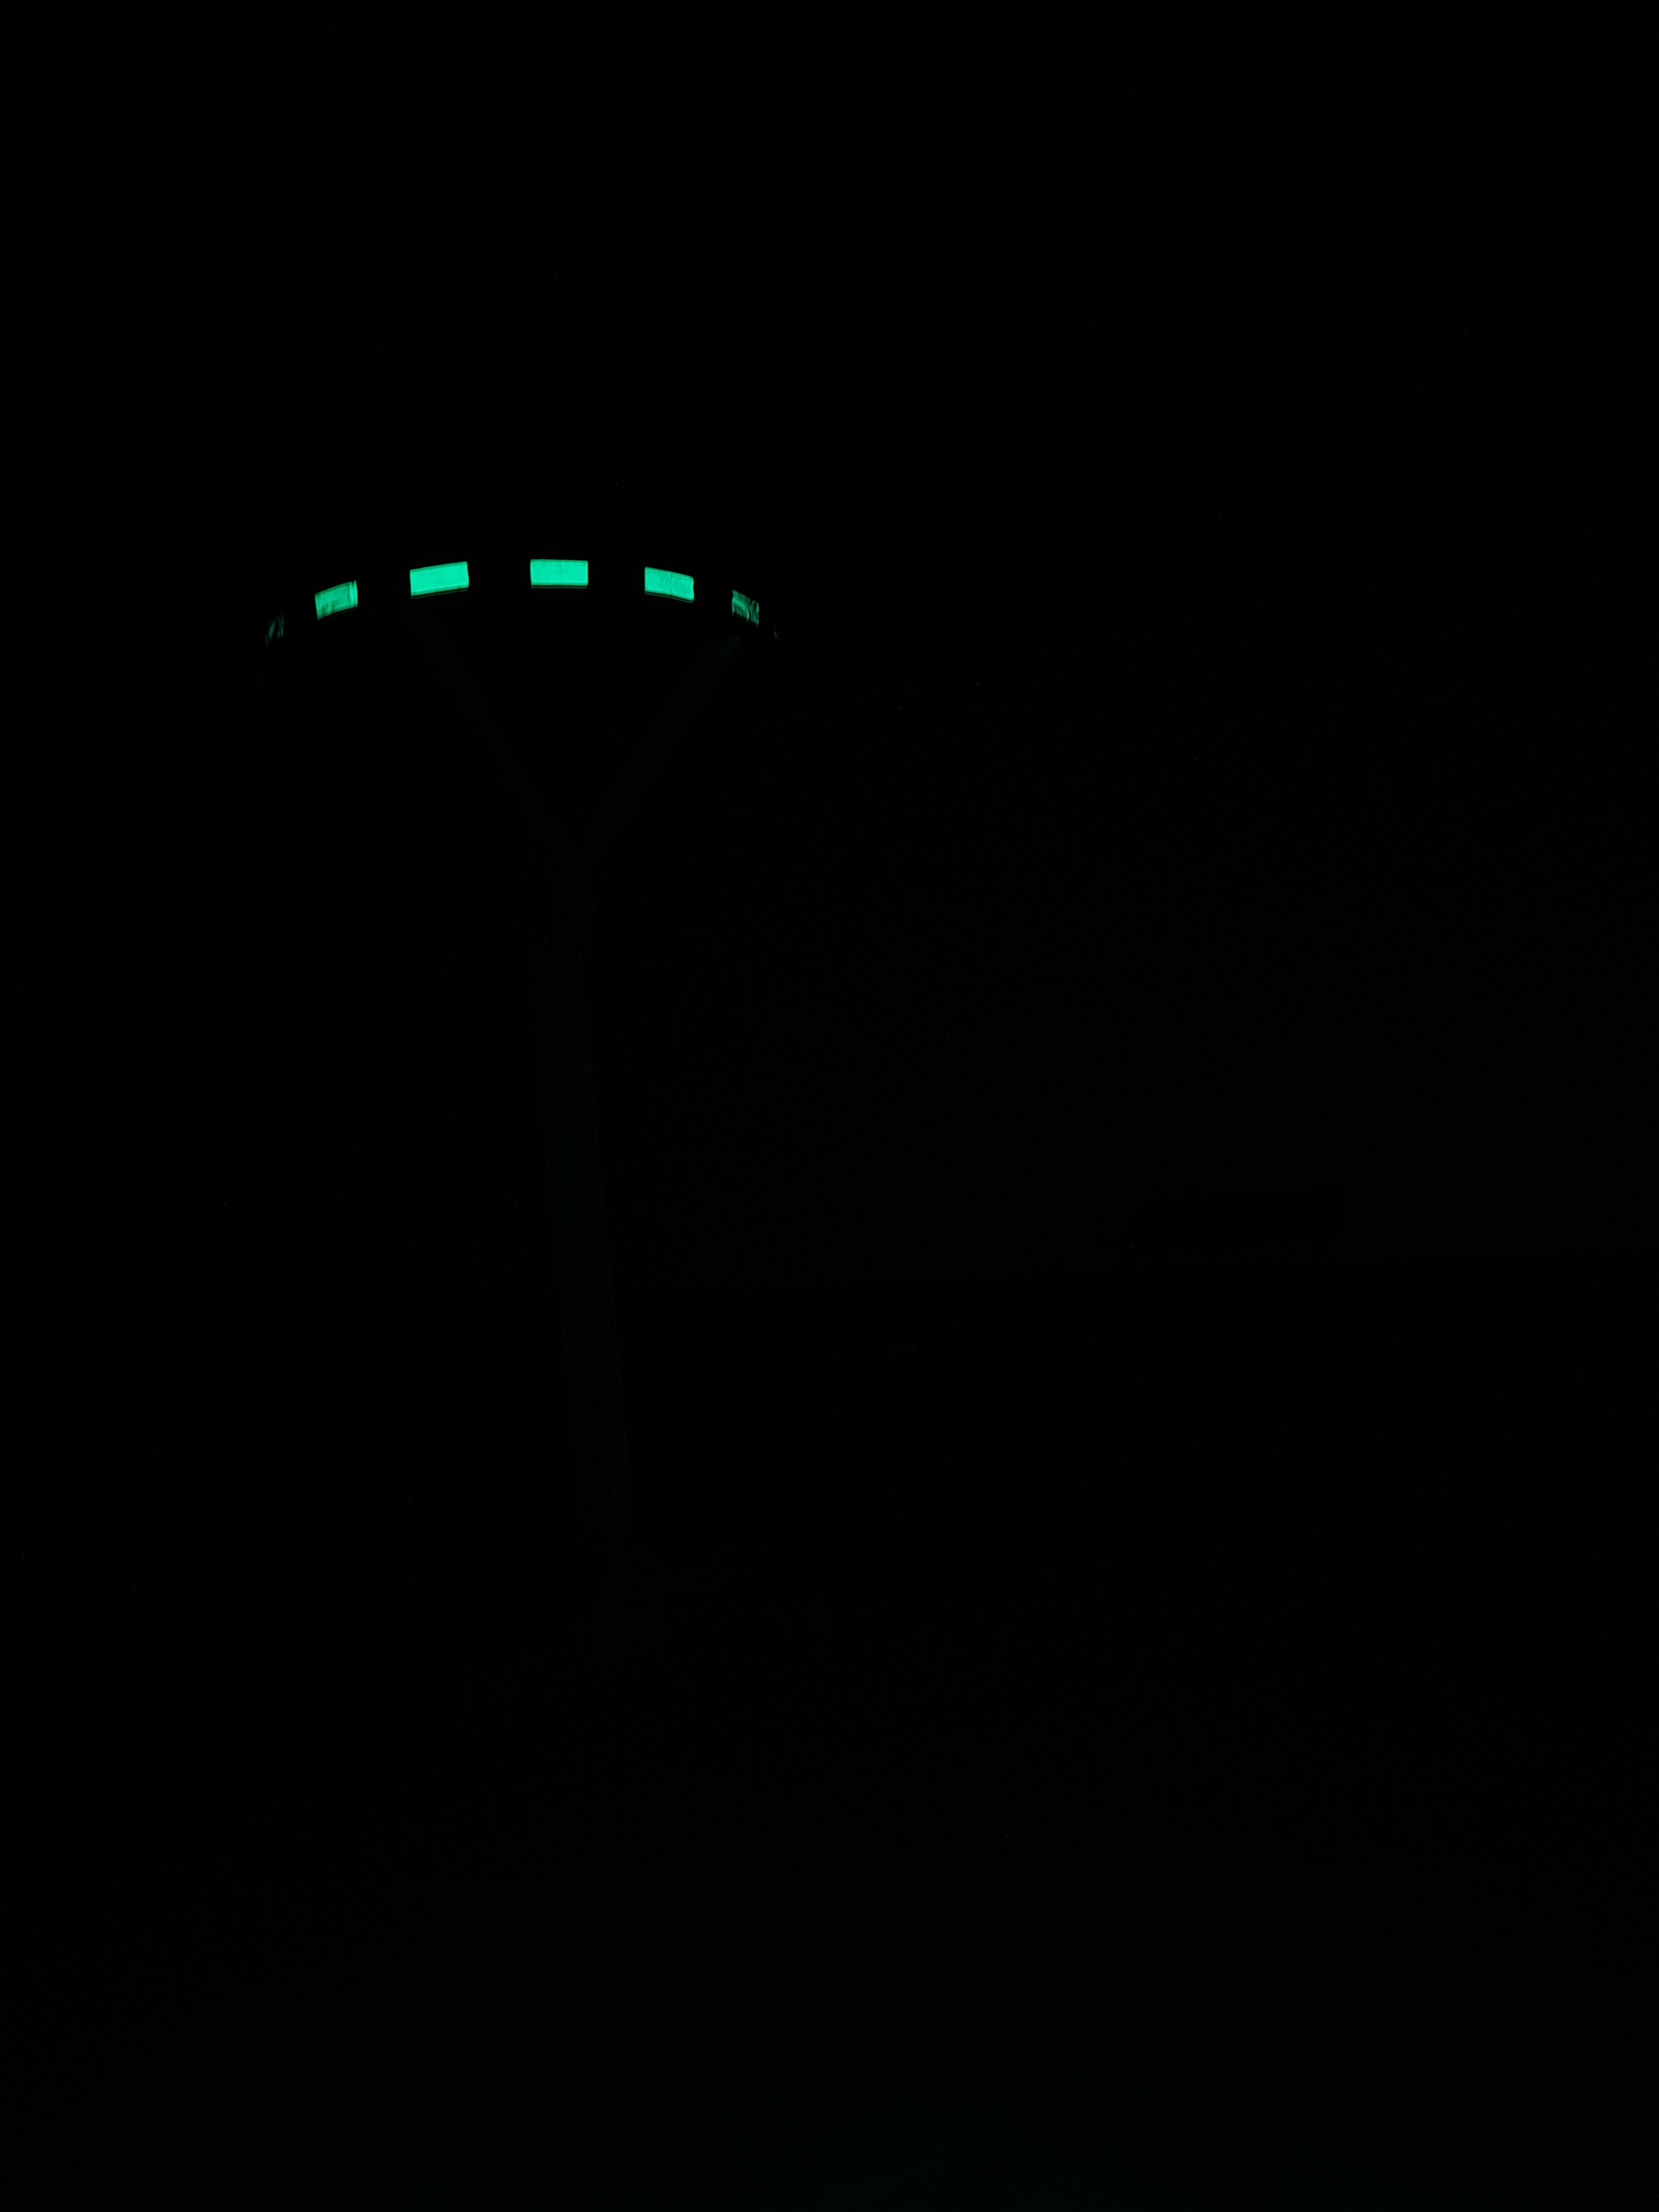hoop: (256, 554, 765, 641)
